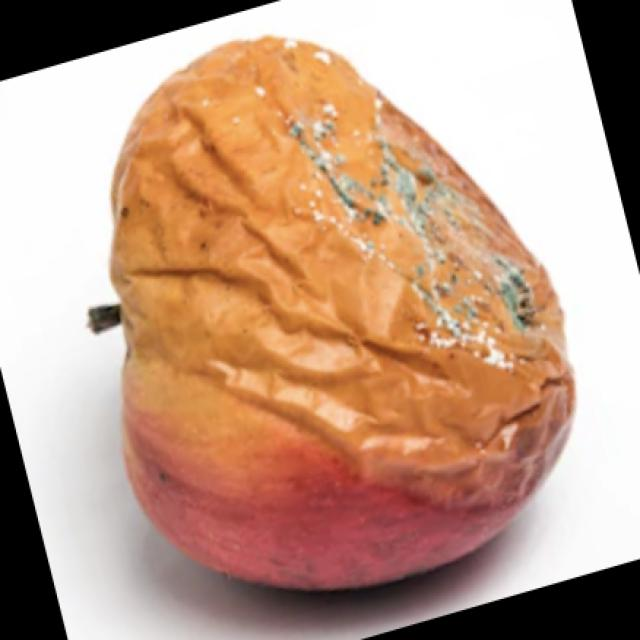organik: (56, 0, 614, 599)
